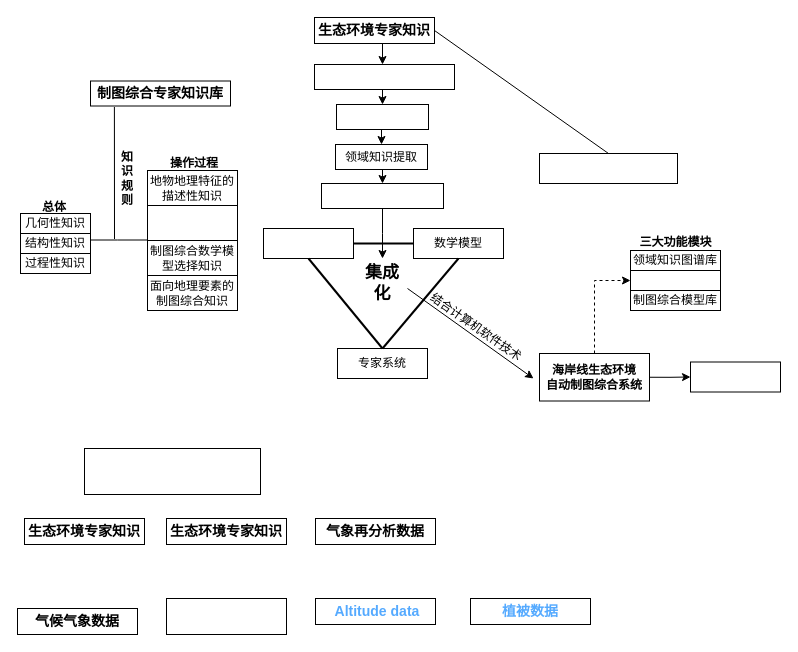
Image size: 798x652. Some labels were removed from this diagram. The centre of each missing label's shape, as x and y in pixels:
GIS\地学专家知识: pixel 608 168
制图综合推理机: pixel 675 280
制图综合操作项选择知识: pixel 192 222
实验验证: pixel 735 376
数据获取与预处理: pixel 384 77
海拔高度数据（DEM）: pixel 226 616
知识图谱: pixel 308 243
确定生态环境指标: pixel 172 471
领域本体建模: pixel 382 117
领域知识存储与应用: pixel 382 195
